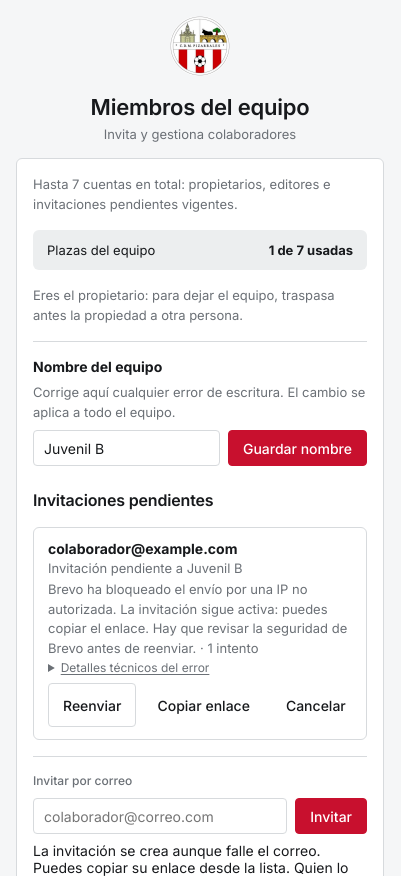
Test: MembersComponent — invitaciones caducadas › mantiene visible el fallo de correo tras recargar y oculta el detalle técnico
Click the button "Reenviar" at coordinates (92, 705), box [48,683,136,727]
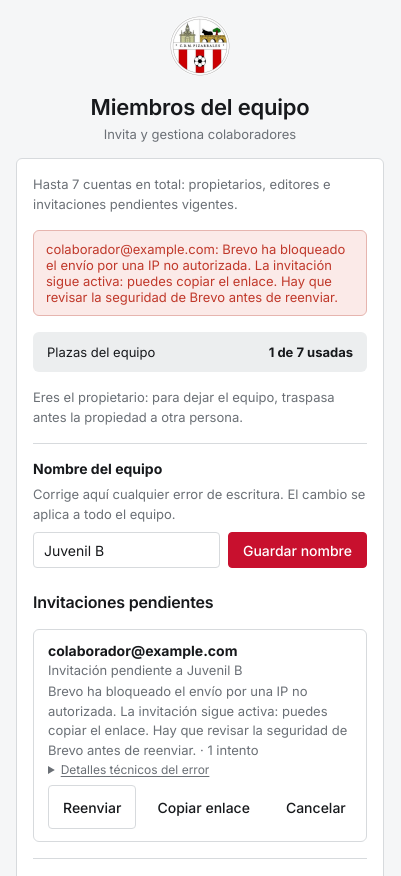
Expected: the message with class "err" shows "IP no autorizada", [46,241,345,305]
